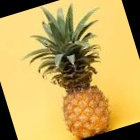Pineapple: (27, 9, 113, 138)
